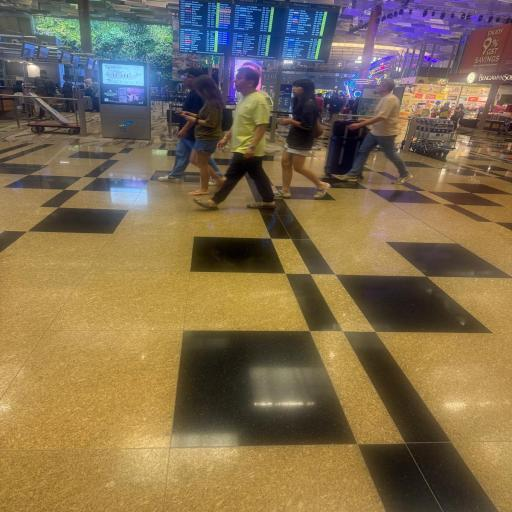person_left: (194, 66, 277, 210), (158, 68, 224, 186), (272, 78, 332, 200), (174, 74, 227, 196)
person_with_luggage_left: (330, 79, 414, 185)
